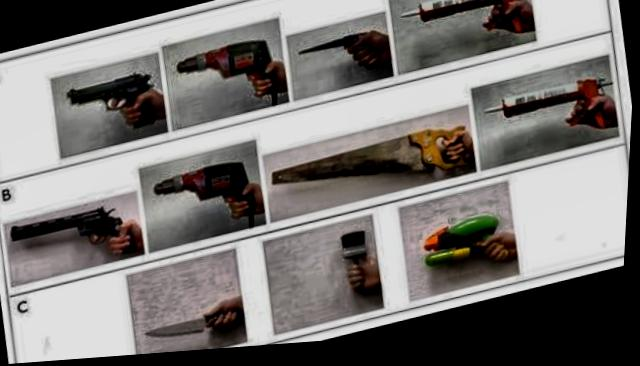pistol: (8, 194, 143, 281), (64, 65, 161, 151)
